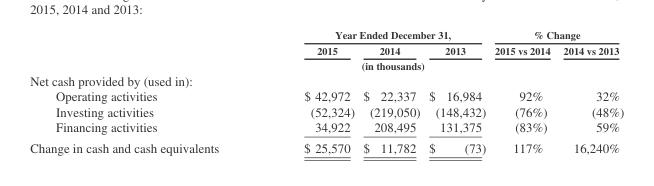table: (29, 28, 623, 154)
table column: (29, 28, 260, 154), (260, 28, 358, 154), (489, 28, 556, 154), (556, 28, 623, 154), (423, 28, 489, 154), (358, 28, 423, 154)
table column header: (29, 28, 623, 57)
table row: (29, 57, 623, 88), (29, 119, 623, 137), (29, 137, 623, 154), (29, 103, 623, 119), (29, 42, 623, 57), (29, 88, 623, 103), (29, 28, 623, 42)
table spanning cell: (260, 57, 489, 88), (260, 28, 489, 42), (489, 28, 623, 42)
